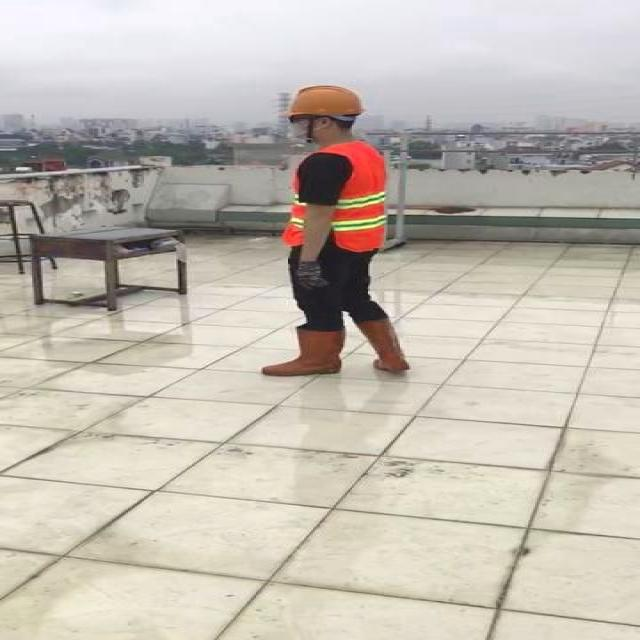boots: (263, 327, 352, 376), (357, 319, 411, 373)
hand_glove: (299, 261, 325, 288)
head_helmet: (285, 82, 369, 122)
person: (246, 78, 428, 379)
vest: (286, 139, 388, 251)
